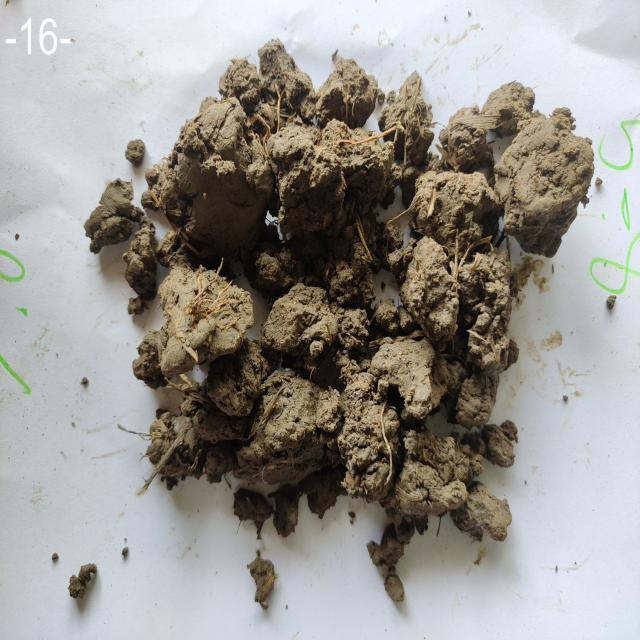soil: (195, 122, 486, 476)
